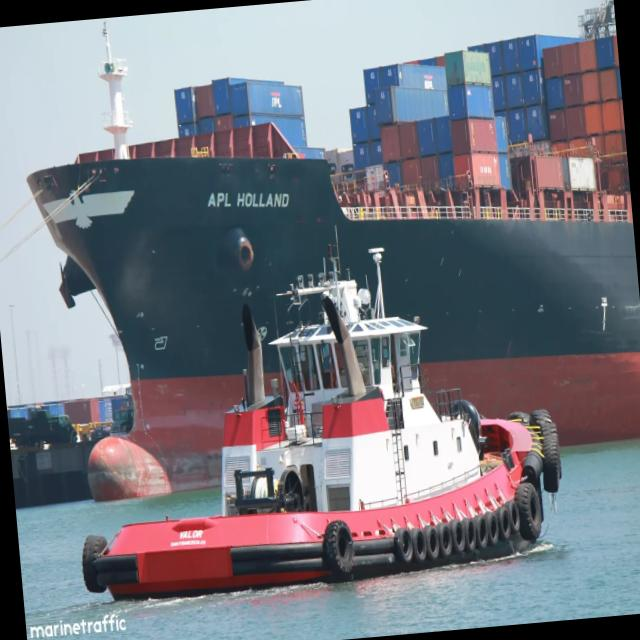Tug: (82, 255, 560, 597), (369, 248, 383, 314)
